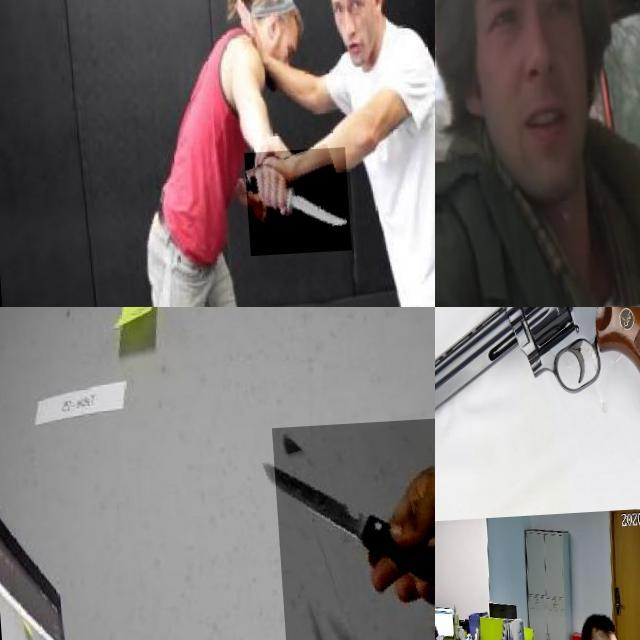-: (269, 423, 435, 640), (240, 152, 346, 260)
gun-knife-thesis - v11 Yolov5 augmented: (435, 307, 640, 448), (435, 156, 502, 307), (435, 307, 470, 428), (435, 457, 444, 523)
